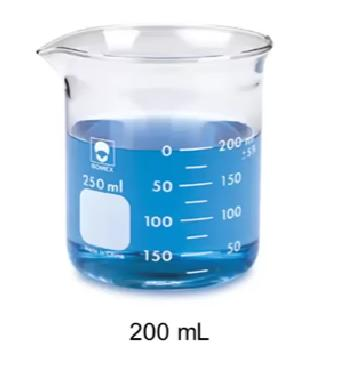Beaker: (39, 10, 273, 288)
